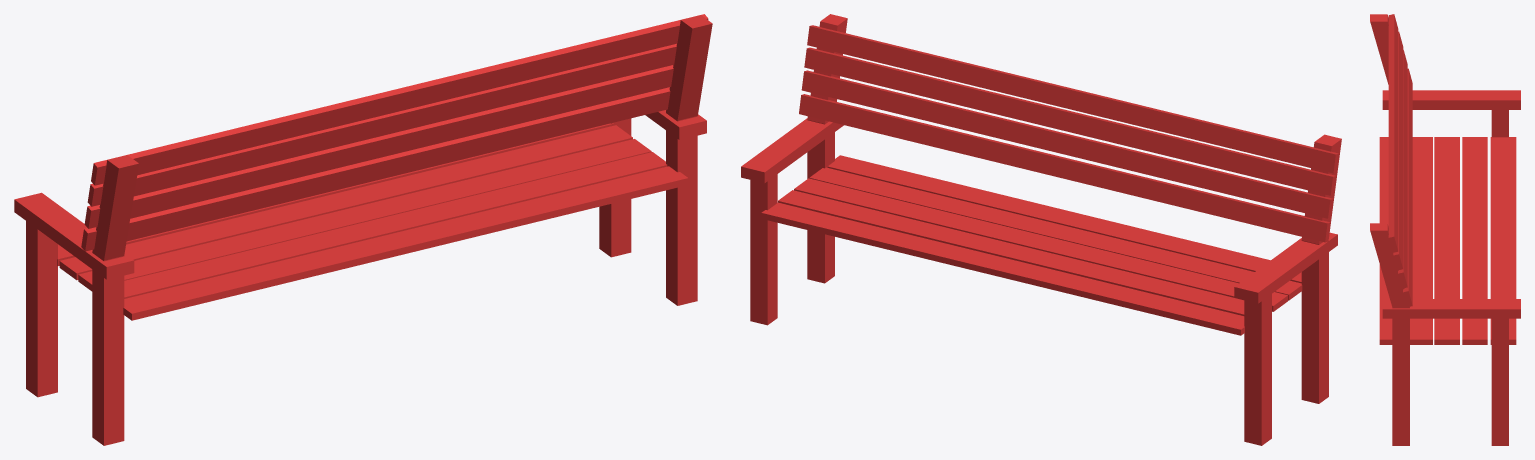
File: banco.fbx
The picture shows the model from 3 angles, left to right: view 1: azimuth 30°, elevation 25°; view 2: azimuth 150°, elevation 25°; view 3: azimuth 270°, elevation 25°; orthographic projection. The views are drawn at different scales.
Parts seen in each view (by area): view 1: banco.024, banco.031, banco.034, banco.033, banco.032, banco.023, banco.021, banco.022, banco.027, banco.026, banco.028, banco.029 (+3 smaller); view 2: banco.031, banco.032, banco.033, banco.034, banco.001, banco.021, banco.022, banco.023, banco.024, banco.027, banco.028, banco.025 (+3 smaller); view 3: banco.021, banco.022, banco.001, banco.023, banco.026, banco.030, banco.031, banco.029, banco.025, banco.024, banco.032, banco.034 (+3 smaller).
Part boxes in pixels (x1,y1,x2,y2): banco.024: [123, 166, 688, 320]; banco.031: [91, 14, 708, 185]; banco.034: [81, 87, 670, 251]; banco.033: [84, 65, 673, 228]; banco.032: [87, 43, 676, 206]; banco.023: [124, 152, 667, 298]; banco.021: [59, 125, 632, 280]; banco.022: [78, 139, 651, 291]; banco.027: [92, 155, 138, 445]; banco.026: [666, 15, 712, 305]; banco.028: [26, 221, 57, 397]; banco.029: [14, 192, 134, 279]; banco.031: [807, 25, 1338, 173]; banco.032: [804, 47, 1336, 195]; banco.033: [801, 70, 1333, 218]; banco.034: [799, 94, 1330, 242]; banco.001: [761, 202, 1244, 335]; banco.021: [778, 190, 1244, 315]; banco.022: [794, 178, 1287, 311]; banco.023: [809, 167, 1302, 300]; banco.024: [827, 155, 1301, 283]; banco.027: [1301, 134, 1341, 403]; banco.028: [1244, 294, 1271, 445]; banco.025: [750, 174, 777, 325]; banco.021: [1462, 137, 1487, 344]; banco.022: [1434, 137, 1459, 344]; banco.001: [1490, 137, 1516, 344]; banco.023: [1410, 137, 1432, 344]; banco.026: [1370, 223, 1409, 445]; banco.030: [1382, 299, 1520, 318]; banco.031: [1388, 14, 1398, 252]; banco.029: [1382, 90, 1520, 109]; banco.025: [1491, 318, 1508, 445]; banco.024: [1379, 137, 1392, 344]; banco.032: [1393, 31, 1403, 270]; banco.034: [1403, 68, 1412, 307].
Size of the model in its own units: 674 by 304 by 193.
